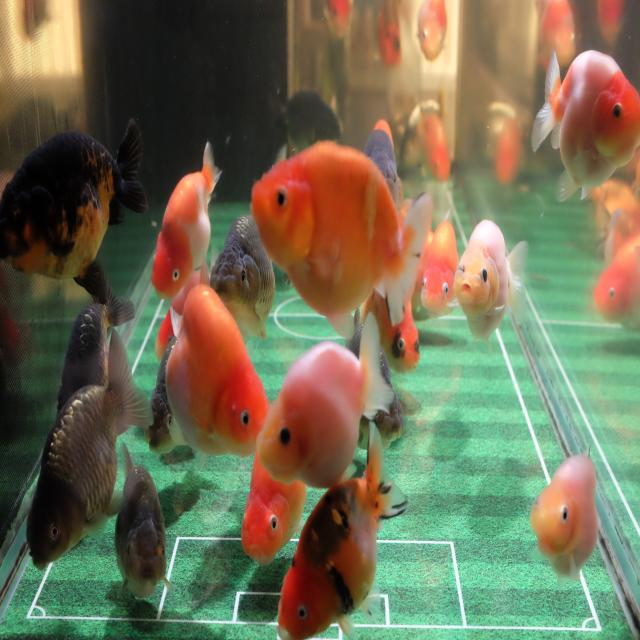Tilapia: (251, 138, 432, 341), (24, 325, 154, 572), (277, 420, 408, 640), (0, 117, 149, 304), (255, 316, 395, 491), (164, 255, 269, 457), (531, 47, 640, 204), (57, 259, 137, 418), (150, 141, 223, 304), (529, 442, 600, 596), (452, 217, 529, 354), (114, 441, 174, 610), (208, 214, 276, 338), (347, 309, 404, 454), (240, 454, 306, 568), (362, 279, 421, 377), (592, 234, 640, 338), (419, 209, 460, 322)
